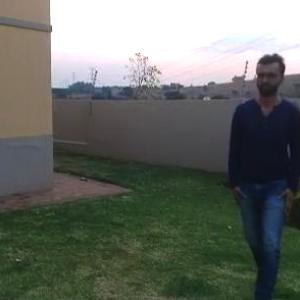follow: (215, 47, 288, 299)
